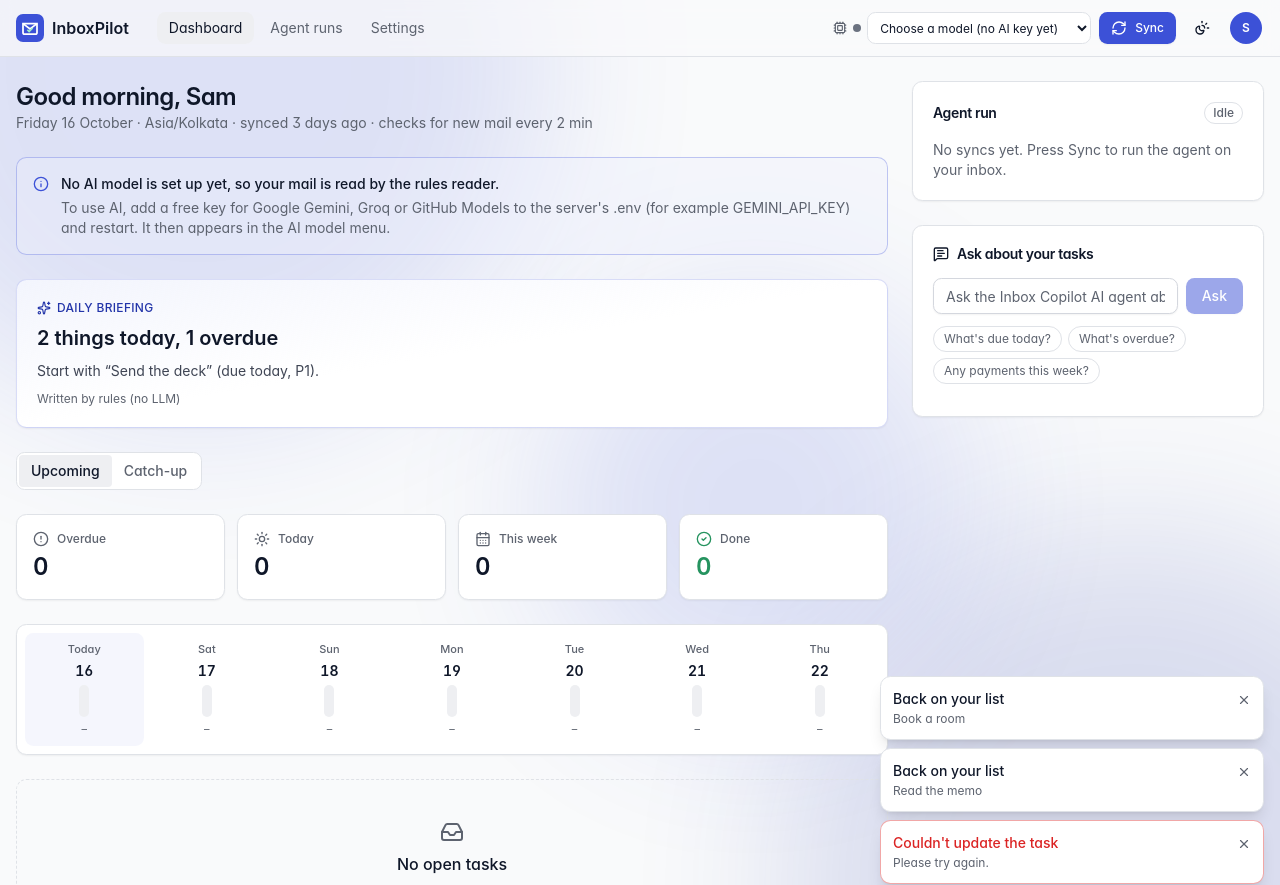
Scenario: dashboard › follows the running sync on 409 instead of failing
Click the button with aria-label "Sync inbox" at (1138, 28), box [1099,12,1176,44]
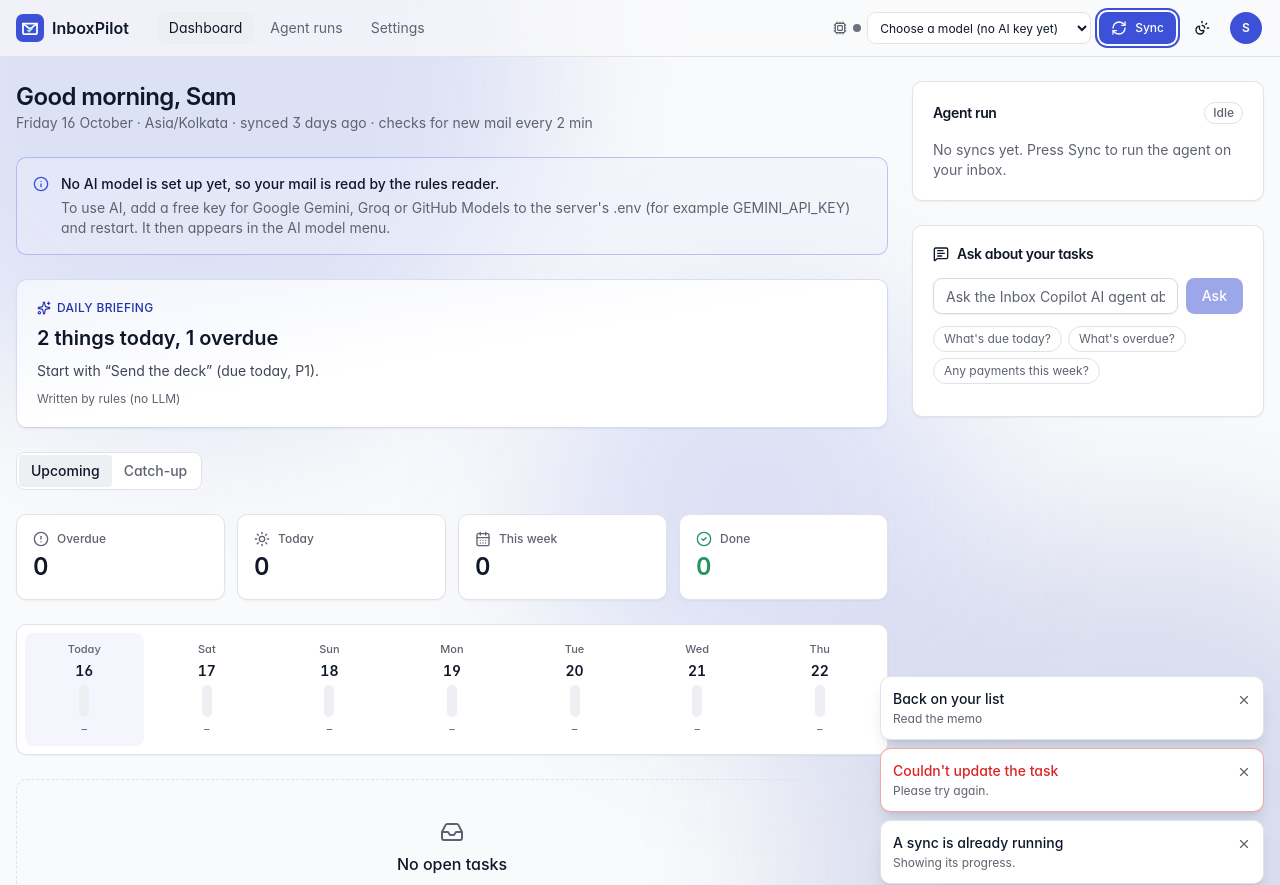
Expected: the text "A sync is already running" is shown, [893,834,1063,851]
